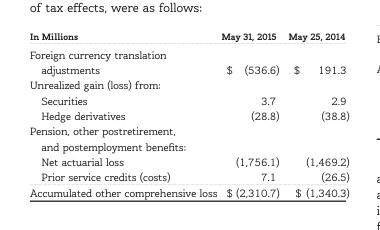table: (28, 29, 348, 199)
table column: (28, 29, 218, 199), (282, 29, 348, 199), (218, 29, 282, 199)
table column header: (28, 29, 348, 44)
table projected row header: (28, 123, 348, 153), (28, 77, 348, 92)
table row: (28, 44, 348, 77), (28, 123, 348, 153), (28, 107, 348, 123), (28, 153, 348, 169), (28, 29, 348, 44), (28, 77, 348, 92), (28, 92, 348, 107), (28, 169, 348, 184), (28, 184, 348, 199)
